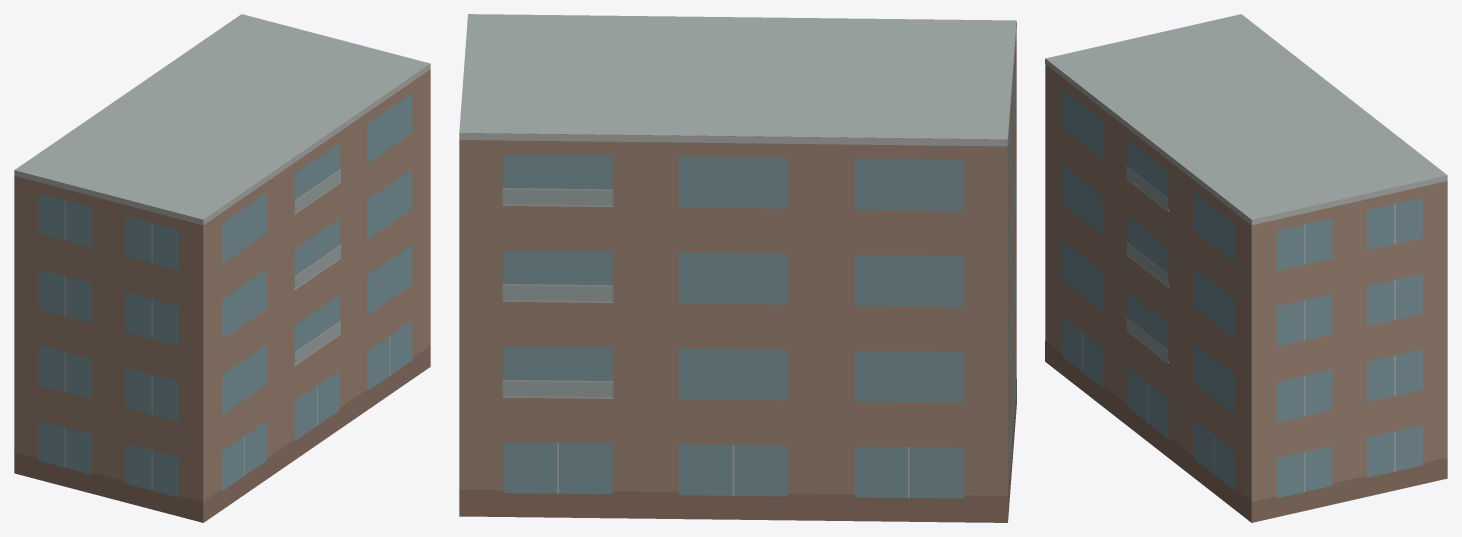
File: survey-upis-32827766.glb
3 renders of one model, left to right at view 1: azimuth 30°, elevation 25°; view 2: azimuth 150°, elevation 25°; view 3: azimuth 270°, elevation 25°, orthographic. The views are drawn at different scales.
Parts seen in each view (by area): view 1: survey-upis-32827766.tmp; view 2: survey-upis-32827766.tmp; view 3: survey-upis-32827766.tmp.
Part boxes in pixels (left/top/right/bottom): survey-upis-32827766.tmp: left=14, top=14, right=430, bottom=522; survey-upis-32827766.tmp: left=459, top=14, right=1016, bottom=522; survey-upis-32827766.tmp: left=1045, top=14, right=1447, bottom=522.
Bounding box in the file's own units: 19.22 × 13.2 × 15.89.
